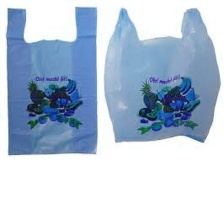plastic_bag: (100, 5, 222, 147), (3, 5, 103, 157)
